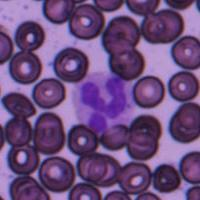N: (72, 70, 134, 136)
